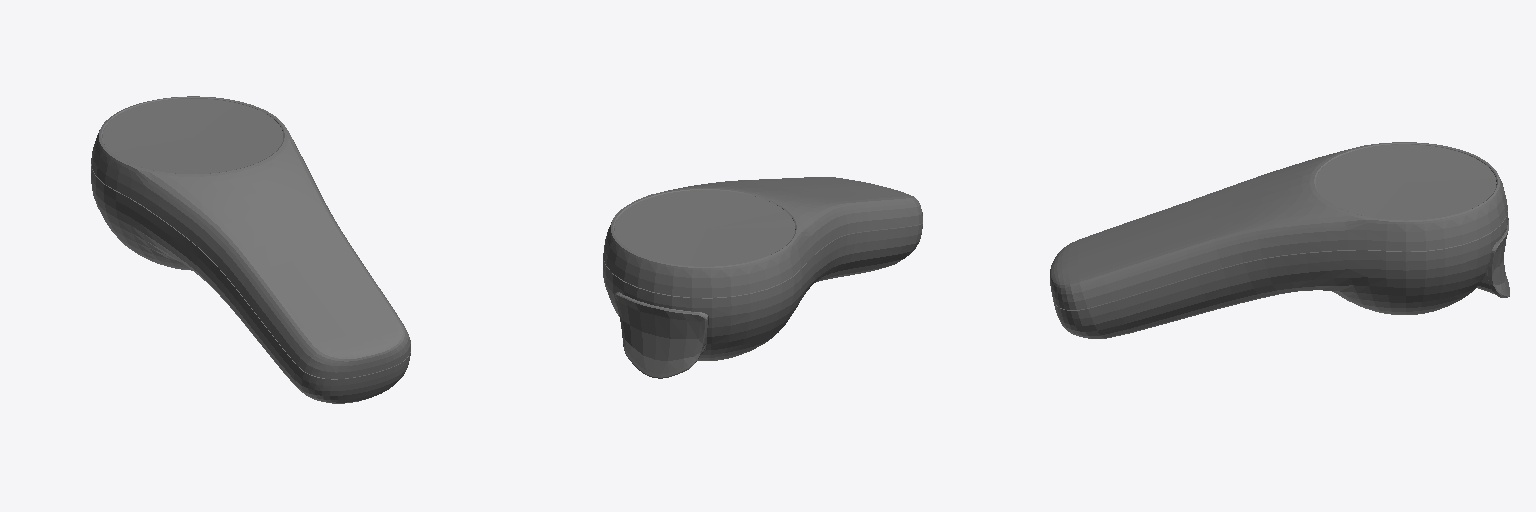
File: generic-trigger.obj
3 views of the same model, side by side, from view 1: azimuth 30°, elevation 25°; view 2: azimuth 150°, elevation 25°; view 3: azimuth 270°, elevation 25° (orthographic).
Parts seen in each view (by area): view 1: generic-trigger; view 2: generic-trigger; view 3: generic-trigger.
Boxes of the visible parts, <box> form: generic-trigger: <box>91,96,410,403</box>; generic-trigger: <box>603,177,922,378</box>; generic-trigger: <box>1050,142,1509,338</box>.
Bounding box in the file's own units: 0.0572 × 0.0458 × 0.1283.